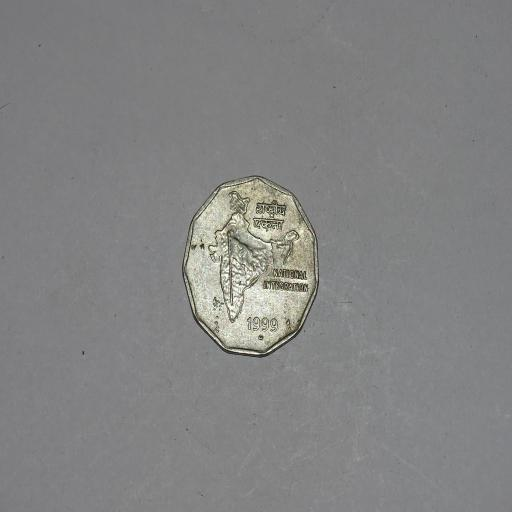rupee2: (182, 176, 320, 356)
